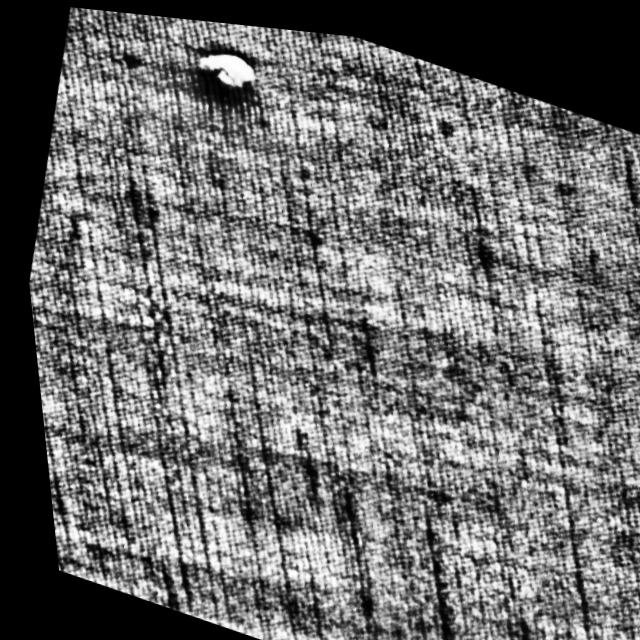Stitch: (187, 33, 261, 95)
